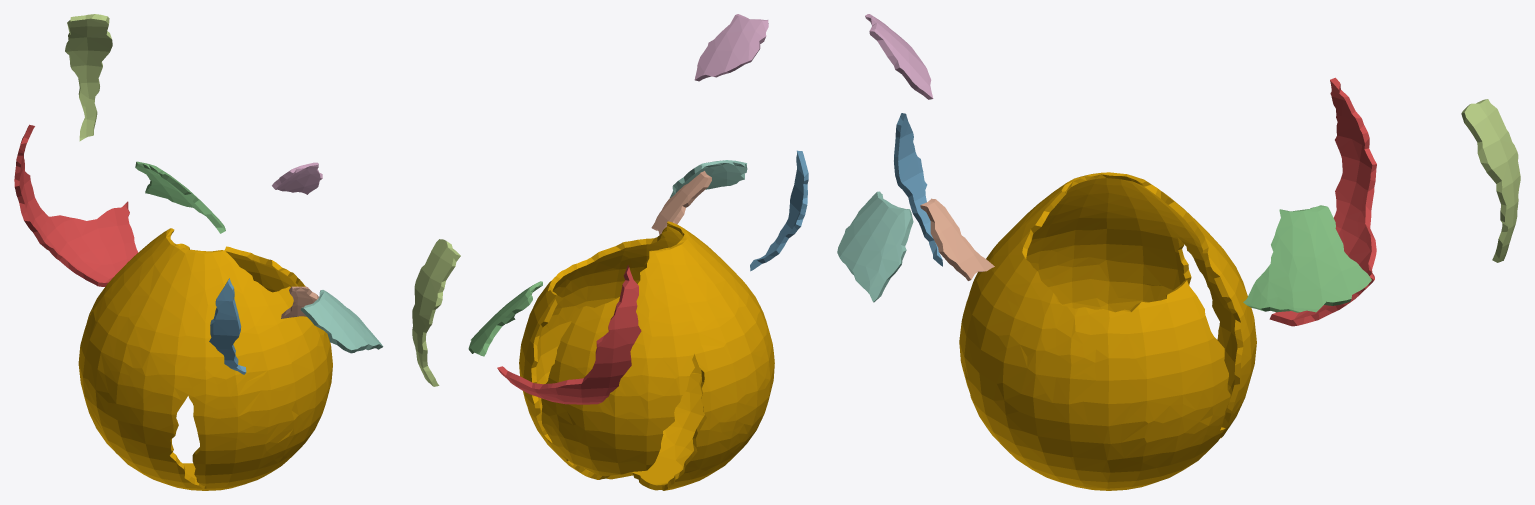
Rendered from fractured_25_8pcs_transformed.glb.
The picture shows the model from 3 angles, left to right: view 1: azimuth 30°, elevation 25°; view 2: azimuth 150°, elevation 25°; view 3: azimuth 270°, elevation 25°; orthographic projection. The views are drawn at different scales.
Visible parts, largest first — view 1: piece_0.obj, piece_1.obj, piece_5.obj, piece_4.obj, piece_2.obj, piece_3.obj, piece_6.obj, piece_7.obj; view 2: piece_0.obj, piece_1.obj, piece_5.obj, piece_6.obj, piece_2.obj, piece_3.obj, piece_7.obj, piece_4.obj; view 3: piece_0.obj, piece_3.obj, piece_1.obj, piece_4.obj, piece_5.obj, piece_2.obj, piece_7.obj, piece_6.obj.
Part boxes in pixels (bbox=[...]): piece_0.obj: bbox=[78, 228, 332, 490]; piece_1.obj: bbox=[14, 124, 138, 286]; piece_5.obj: bbox=[65, 14, 112, 141]; piece_4.obj: bbox=[300, 290, 383, 353]; piece_2.obj: bbox=[209, 278, 246, 374]; piece_3.obj: bbox=[135, 161, 225, 233]; piece_6.obj: bbox=[272, 162, 322, 194]; piece_7.obj: bbox=[281, 286, 318, 318]; piece_0.obj: bbox=[519, 221, 774, 490]; piece_1.obj: bbox=[497, 265, 641, 404]; piece_5.obj: bbox=[412, 239, 460, 386]; piece_6.obj: bbox=[694, 14, 768, 81]; piece_2.obj: bbox=[750, 150, 808, 271]; piece_3.obj: bbox=[468, 281, 542, 356]; piece_7.obj: bbox=[651, 171, 711, 234]; piece_4.obj: bbox=[670, 160, 747, 197]; piece_0.obj: bbox=[959, 172, 1256, 490]; piece_3.obj: bbox=[1243, 205, 1371, 312]; piece_1.obj: bbox=[1269, 77, 1376, 326]; piece_4.obj: bbox=[837, 191, 913, 302]; piece_5.obj: bbox=[1461, 99, 1520, 262]; piece_2.obj: bbox=[894, 113, 942, 266]; piece_7.obj: bbox=[920, 198, 994, 280]; piece_6.obj: bbox=[865, 14, 933, 99].
Bounding box in the file's own units: 0.9657 × 1.6 × 2.22.
